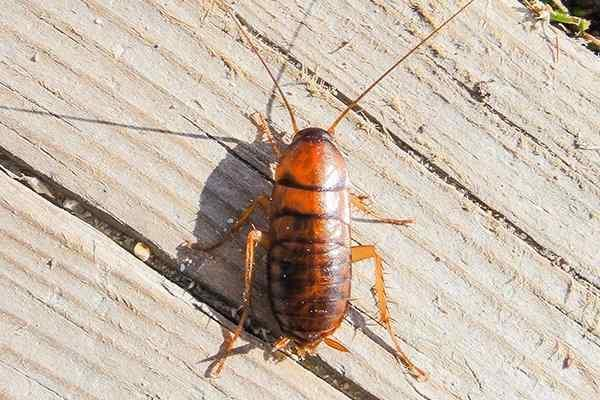cockroach: (246, 120, 358, 354)
